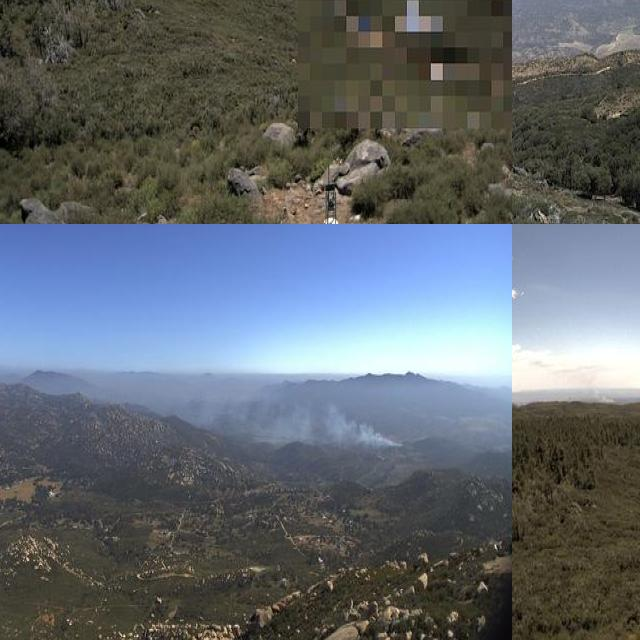smoke: (206, 385, 408, 453), (530, 354, 622, 406)
